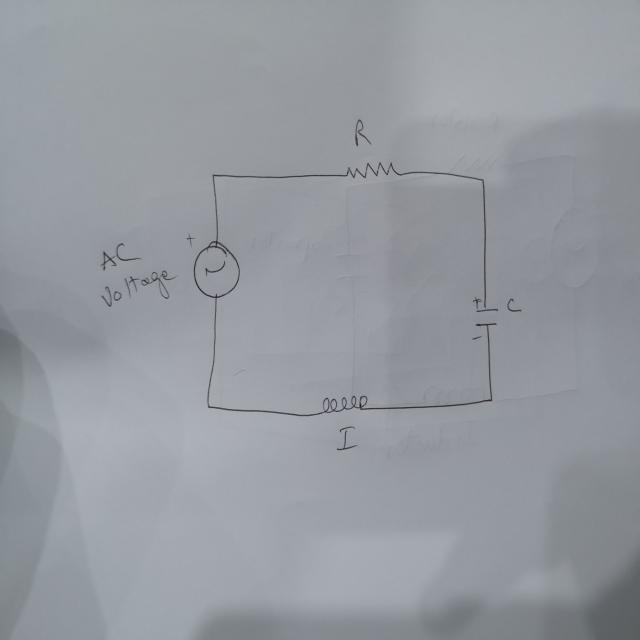capacitor: (470, 296, 500, 344)
inductor: (320, 392, 368, 416)
junction: (486, 391, 496, 406), (204, 398, 214, 412), (209, 169, 219, 183), (478, 174, 487, 185)
resistor: (344, 160, 401, 181)
source: (185, 230, 241, 298)
text: (101, 267, 178, 311), (99, 240, 143, 272), (352, 116, 374, 150), (335, 424, 359, 454), (505, 296, 522, 316)
